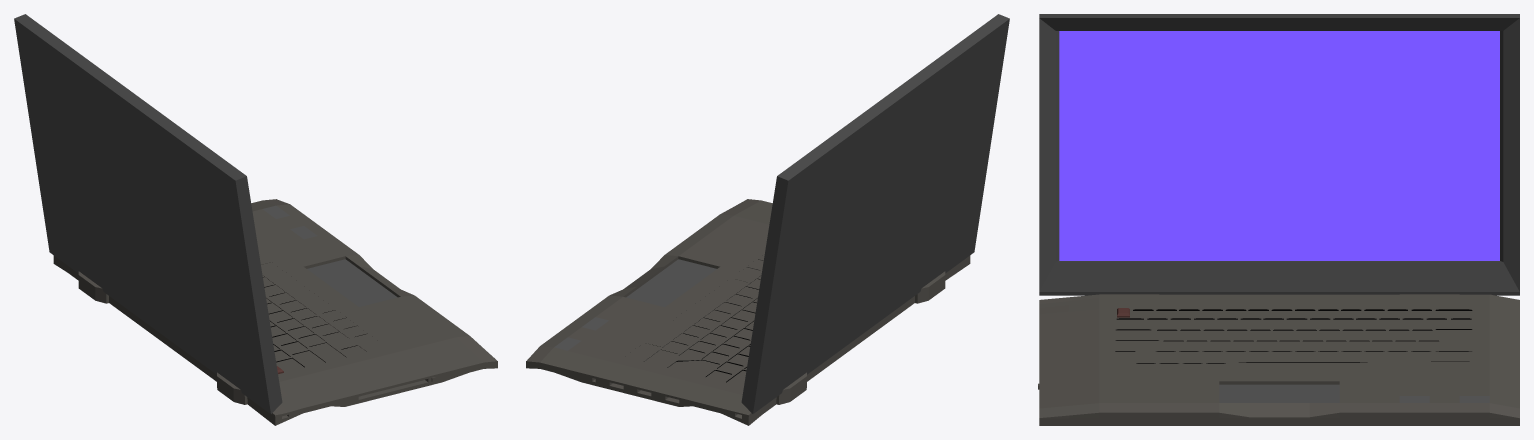
Rendered from Laptop.fbx.
3 views of the same model, side by side, from view 1: azimuth 30°, elevation 25°; view 2: azimuth 150°, elevation 25°; view 3: azimuth 270°, elevation 25° (orthographic). The views are drawn at different scales.
Parts seen in each view (by area): view 1: Cube; view 2: Cube; view 3: Cube.
Part boxes in pixels (<box>): Cube: <box>14,14,497,425</box>; Cube: <box>526,14,1009,425</box>; Cube: <box>1038,14,1519,425</box>.
Size of the model in its own units: 169 by 158 by 248.
